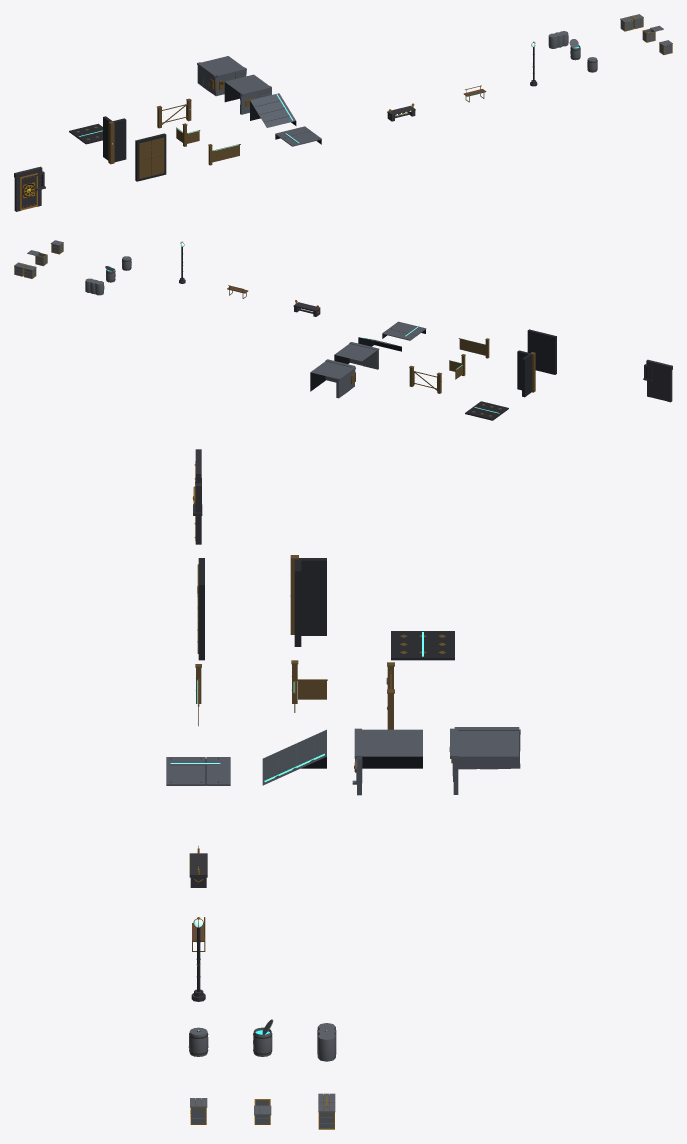
The model's file is Dvergr_FullBuild.glb.
3 views of the same model, one above another, from view 1: azimuth 30°, elevation 25°; view 2: azimuth 150°, elevation 25°; view 3: azimuth 270°, elevation 25° (orthographic). The views are drawn at different scales.
Visible parts, largest first — view 1: SM_Terrain_Dvergr_08_Slope_Ramp, SM_Terrain_Dvergr_08_Cliff_Deck, SM_Wall_DvergrPlate_08_Corner_PanelX, SM_Wall_DvergrPlate_08_Straight_Panel, SM_Wall_DvergrPlate_08_Floor_Slab, SM_Terrain_Dvergr_08_Corner_Deck, SM_Terrain_Dvergr_08_Flat_PlateA, SM_Fence_DvergrBrass_08_Straight_Panel, SM_Door_DwarvenVault_08_Slab; view 2: SM_Wall_DvergrPlate_08_Straight_Panel, SM_Terrain_Dvergr_08_Corner_Deck, SM_Door_DwarvenVault_08_Slab, SM_Terrain_Dvergr_08_Cliff_Deck, SM_Wall_DvergrPlate_08_Floor_Slab, SM_Wall_DvergrPlate_08_Corner_PanelY, SM_Fence_DvergrBrass_08_Straight_Panel, SM_Terrain_Dvergr_08_Flat_PlateA; view 3: SM_Terrain_Dvergr_08_Cliff_Deck, SM_Wall_DvergrPlate_08_Corner_PanelY, SM_Wall_DvergrPlate_08_Floor_Slab, SM_Terrain_Dvergr_08_Slope_Ramp, SM_Terrain_Dvergr_08_Corner_Deck, SM_Terrain_Dvergr_08_Flat_PlateA.
Part boxes in pixels (box(x1,y1,x2,y2)): SM_Terrain_Dvergr_08_Slope_Ramp: box(250, 93, 296, 127); SM_Terrain_Dvergr_08_Cliff_Deck: box(224, 74, 268, 102); SM_Wall_DvergrPlate_08_Corner_PanelX: box(113, 118, 126, 162); SM_Wall_DvergrPlate_08_Straight_Panel: box(135, 133, 166, 181); SM_Wall_DvergrPlate_08_Floor_Slab: box(69, 123, 102, 144); SM_Terrain_Dvergr_08_Corner_Deck: box(201, 56, 243, 73); SM_Terrain_Dvergr_08_Flat_PlateA: box(282, 131, 321, 146); SM_Fence_DvergrBrass_08_Straight_Panel: box(212, 145, 239, 162); SM_Door_DwarvenVault_08_Slab: box(21, 175, 36, 208); SM_Wall_DvergrPlate_08_Straight_Panel: box(527, 329, 556, 374); SM_Terrain_Dvergr_08_Corner_Deck: box(310, 361, 350, 391); SM_Door_DwarvenVault_08_Slab: box(650, 365, 667, 401); SM_Terrain_Dvergr_08_Cliff_Deck: box(334, 343, 376, 363); SM_Wall_DvergrPlate_08_Floor_Slab: box(465, 401, 508, 420); SM_Wall_DvergrPlate_08_Corner_PanelY: box(522, 354, 531, 397); SM_Fence_DvergrBrass_08_Straight_Panel: box(459, 339, 485, 355); SM_Terrain_Dvergr_08_Flat_PlateA: box(389, 321, 426, 335); SM_Terrain_Dvergr_08_Cliff_Deck: box(362, 729, 422, 768); SM_Wall_DvergrPlate_08_Corner_PanelY: box(301, 558, 326, 635); SM_Wall_DvergrPlate_08_Floor_Slab: box(391, 631, 454, 660); SM_Terrain_Dvergr_08_Slope_Ramp: box(262, 729, 326, 785); SM_Terrain_Dvergr_08_Corner_Deck: box(458, 731, 518, 756); SM_Terrain_Dvergr_08_Flat_PlateA: box(166, 757, 205, 785).
Size of the model in its own units: 45.18 by 2.88 by 11.05.
